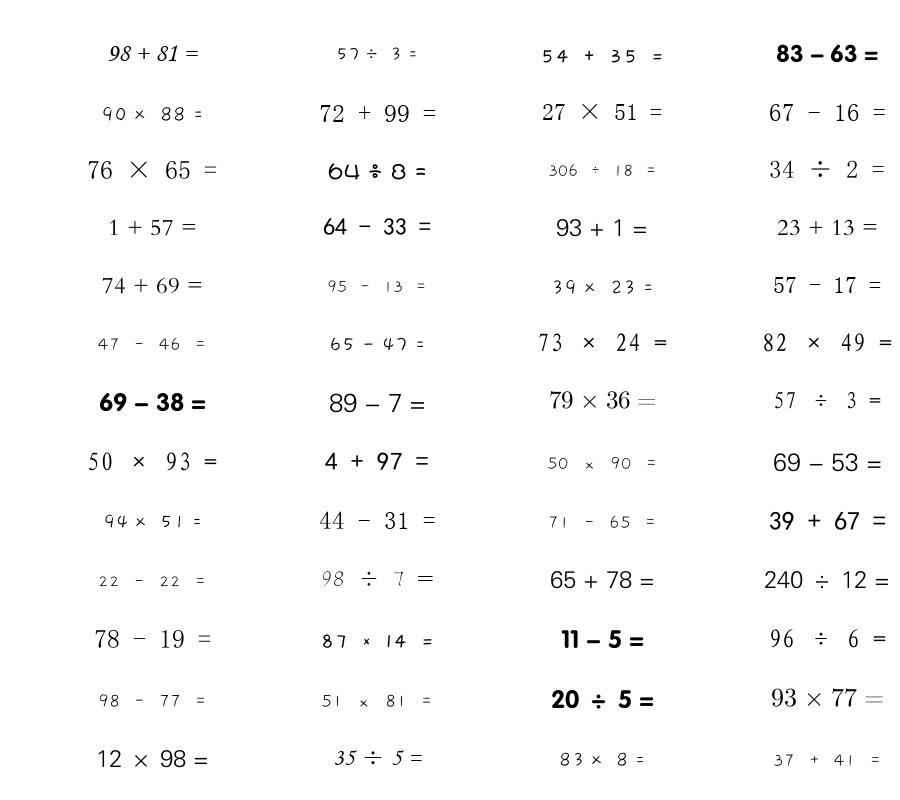MQ: (537, 333, 667, 352), (762, 333, 892, 352), (87, 452, 217, 471), (87, 161, 217, 179), (764, 571, 890, 589), (769, 511, 886, 530), (94, 629, 211, 648), (769, 629, 886, 648), (771, 688, 884, 707), (99, 392, 206, 412), (319, 511, 436, 529), (769, 160, 885, 178), (773, 453, 882, 472), (551, 689, 654, 709), (542, 103, 662, 120), (96, 750, 209, 768), (550, 570, 655, 589), (319, 105, 436, 122), (769, 104, 886, 121), (773, 391, 881, 409), (329, 393, 426, 413), (776, 44, 878, 63), (549, 391, 656, 409), (325, 452, 429, 470), (323, 218, 431, 235), (321, 571, 434, 587), (540, 49, 664, 63), (773, 277, 881, 293), (777, 219, 878, 236), (102, 277, 203, 294), (328, 163, 427, 180), (561, 629, 644, 649), (556, 219, 648, 237), (101, 106, 203, 122), (551, 279, 653, 295), (320, 634, 434, 648), (321, 694, 433, 708), (547, 456, 658, 470), (107, 45, 198, 62), (98, 337, 207, 351), (548, 515, 657, 529), (98, 694, 207, 708), (108, 219, 197, 236), (103, 514, 202, 529), (329, 337, 425, 352), (548, 164, 657, 177), (773, 754, 882, 767), (333, 750, 422, 765), (98, 576, 207, 588), (327, 280, 427, 293), (559, 752, 645, 767), (336, 47, 418, 61)
